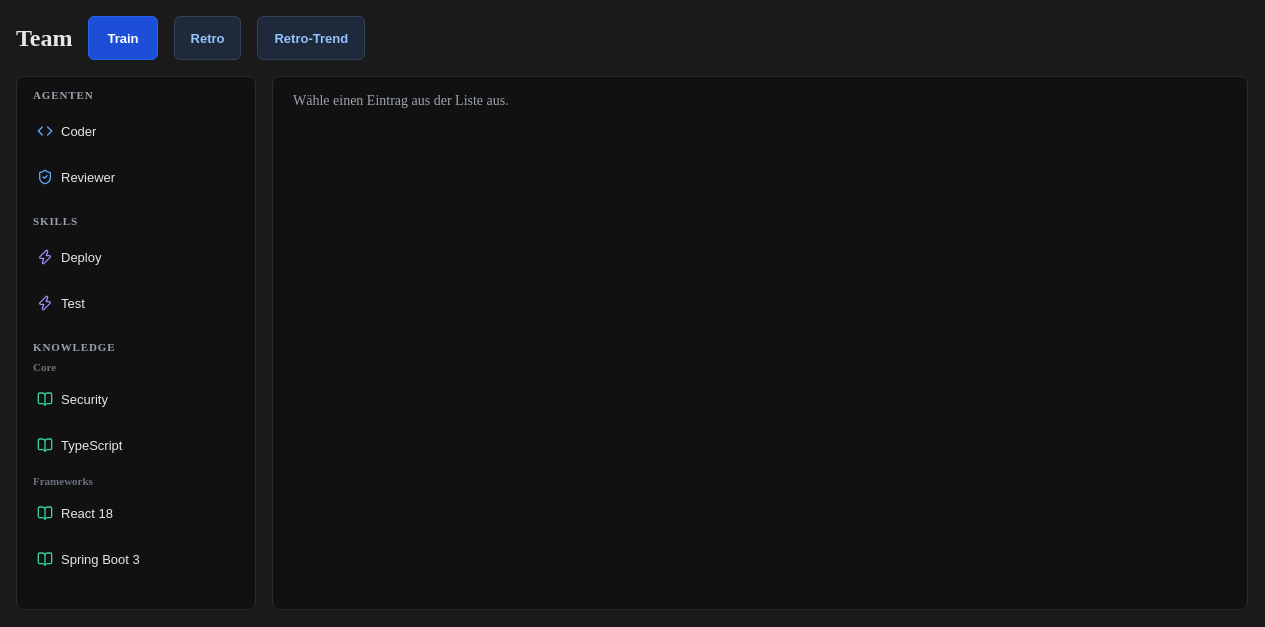
Test case: TeamView — AC7: Error state › detail pane error: list remains usable after detail fetch fails
What coordinates should you click on to do the following:
click the button "Coder"
I would click on:
 (136, 131)
Its box is x1=25 y1=109 x2=247 y2=153.
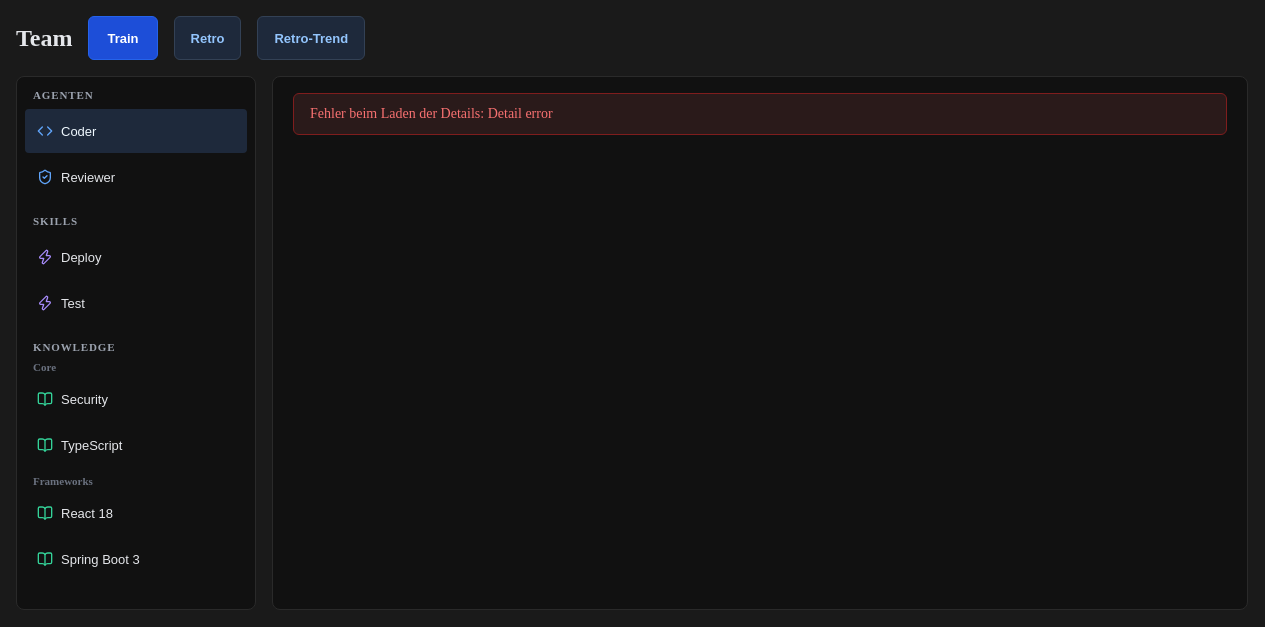
Check: the button "Reviewer" is shown, box x1=25 y1=155 x2=247 y2=199
Check: the message "Fehler beim Laden der Details: Detail error" is shown, box x1=293 y1=93 x2=1227 y2=135
